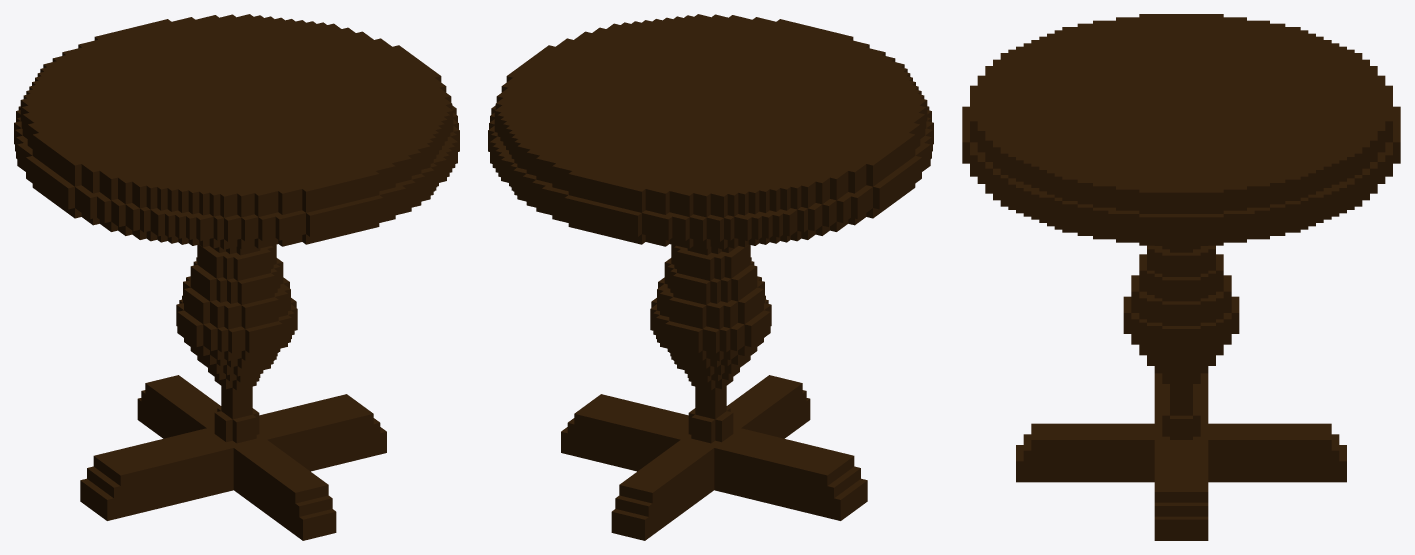
Rendered from table.fbx.
3 views of the same model, side by side, from view 1: azimuth 30°, elevation 25°; view 2: azimuth 150°, elevation 25°; view 3: azimuth 270°, elevation 25° (orthographic).
Parts seen in each view (by area): view 1: Table ronde; view 2: Table ronde; view 3: Table ronde.
Boxes of the visible parts, x1,y1,x2,y2 form: Table ronde: [14, 14, 459, 540]; Table ronde: [488, 14, 933, 540]; Table ronde: [962, 14, 1400, 540].
Bounding box in the file's own units: 75 × 70 × 75.
